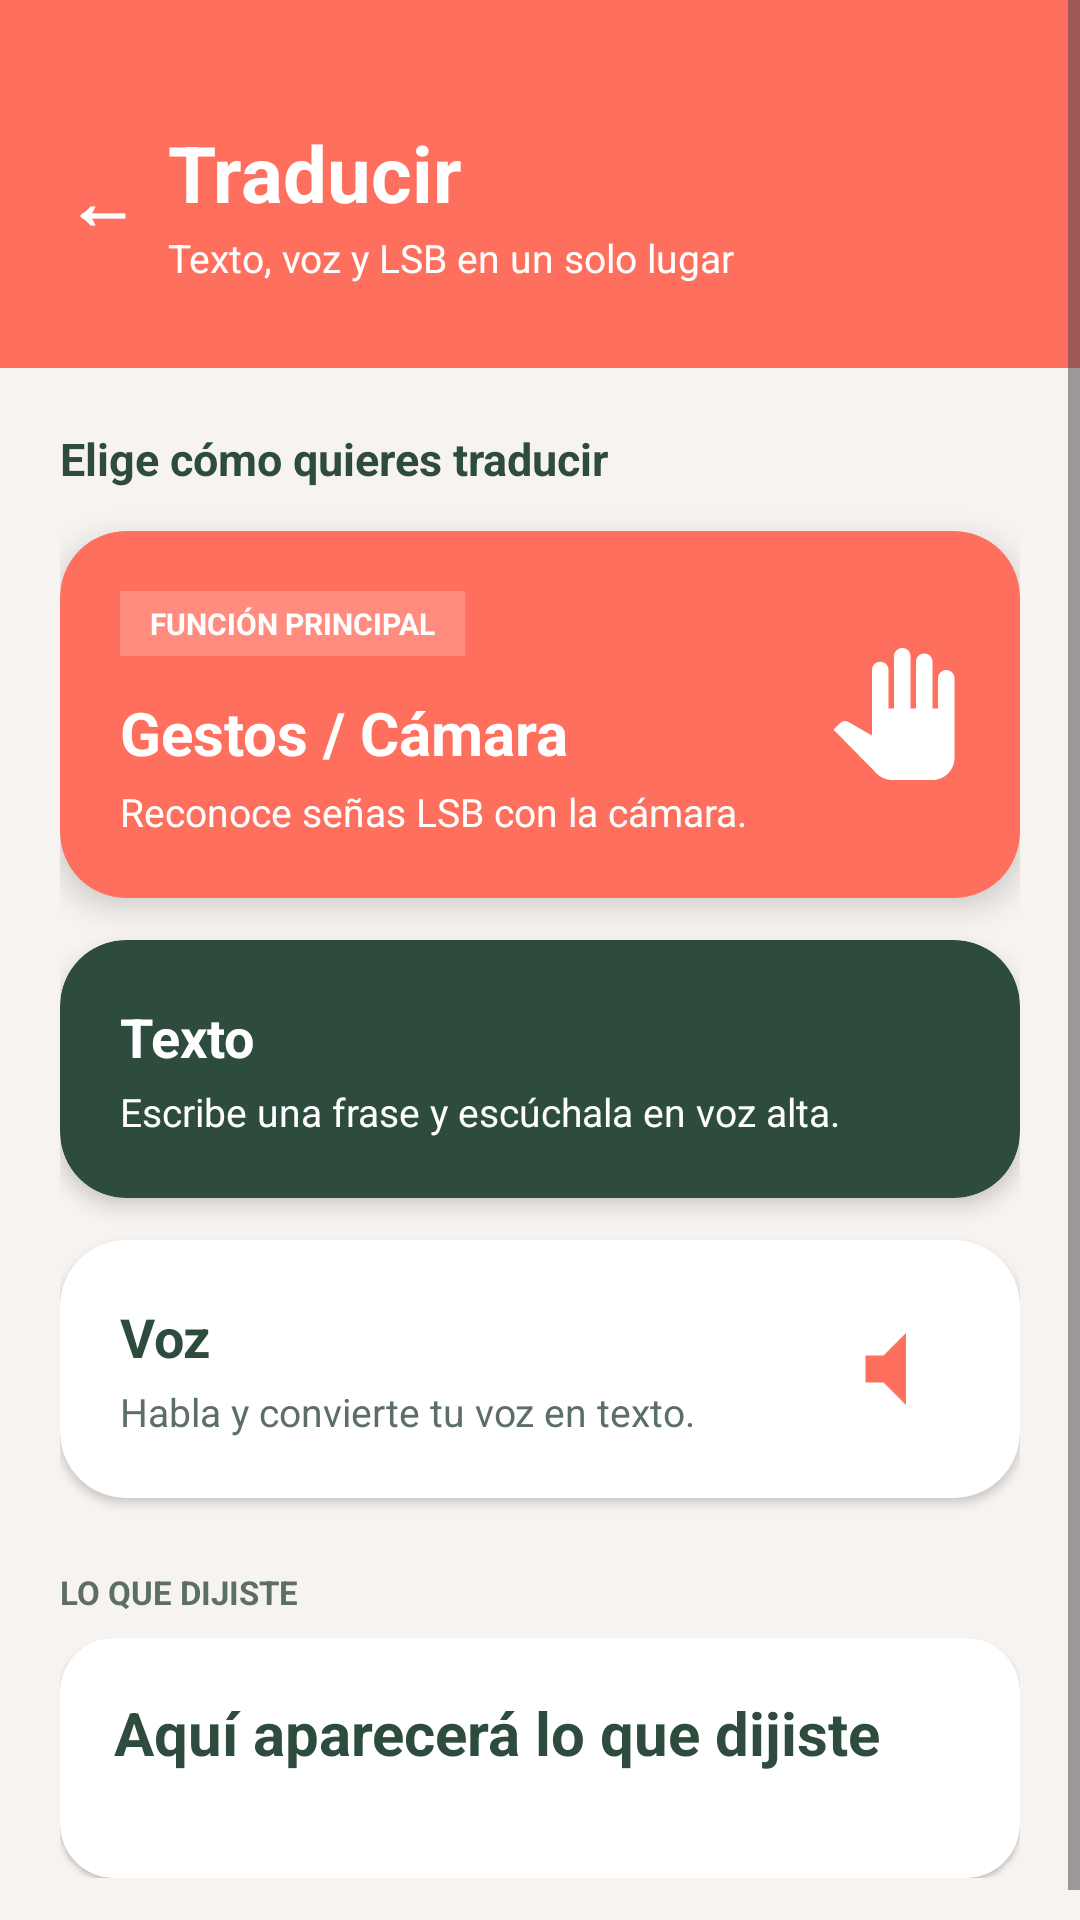

Point at icon controls on the screen. Image size 1080px×1920px, points as point (x, y).
hablar: point (885, 1369)
ver gestos: point (894, 714)
